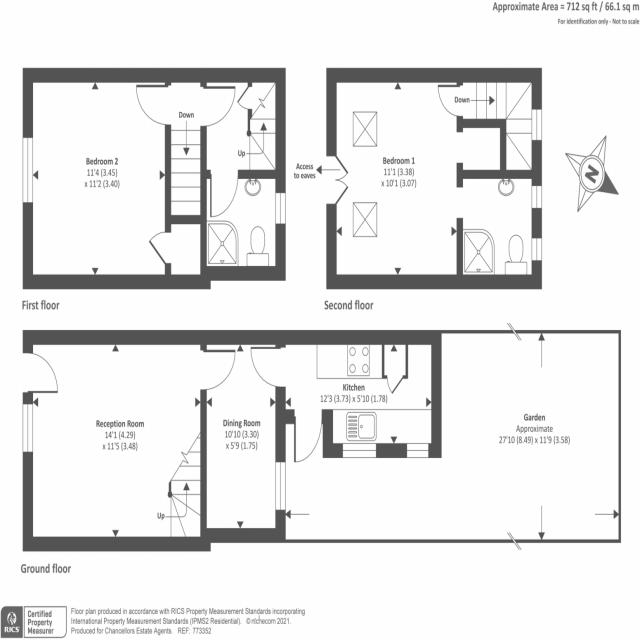DOOR: (22, 352, 59, 393), (200, 86, 236, 127), (200, 349, 236, 390), (136, 84, 171, 126), (294, 417, 322, 463), (210, 174, 239, 217), (250, 347, 277, 387), (438, 84, 463, 116), (149, 231, 171, 266)
ROOM: (22, 329, 237, 552), (326, 67, 507, 290), (23, 68, 172, 290), (250, 329, 442, 462)
WINDOW: (23, 138, 33, 203), (275, 461, 286, 511), (22, 404, 33, 452), (343, 443, 376, 458), (407, 443, 429, 458), (276, 193, 286, 224), (532, 109, 542, 140), (532, 185, 542, 208), (532, 238, 542, 261)
